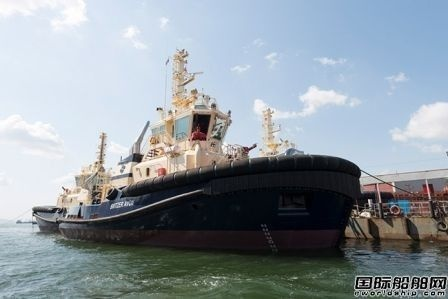otherboat: (34, 65, 367, 251)
